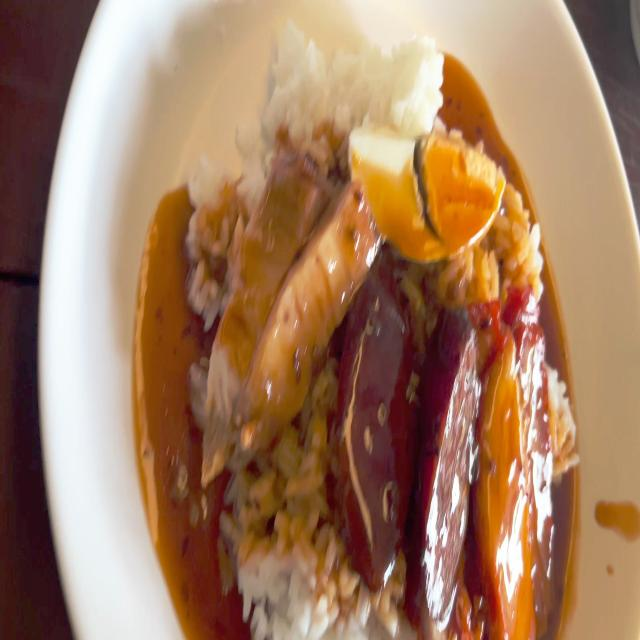boiled_egg: (352, 125, 501, 261)
chainese_sausage: (348, 289, 473, 585)
crispy_pork: (199, 158, 378, 450)
red_pork: (484, 302, 561, 640)
red_pork_and_crispy_pork: (185, 22, 583, 640)
rice: (240, 433, 350, 640), (268, 24, 445, 138)
